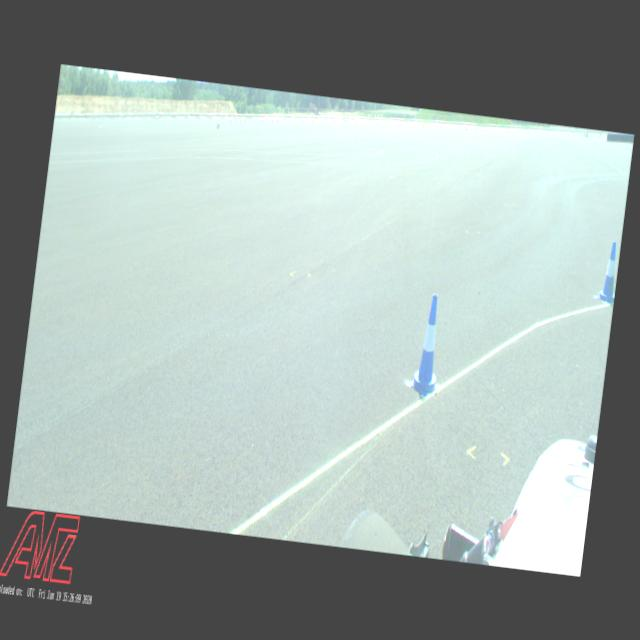blue_cone: (407, 292, 449, 398), (596, 240, 620, 302)
